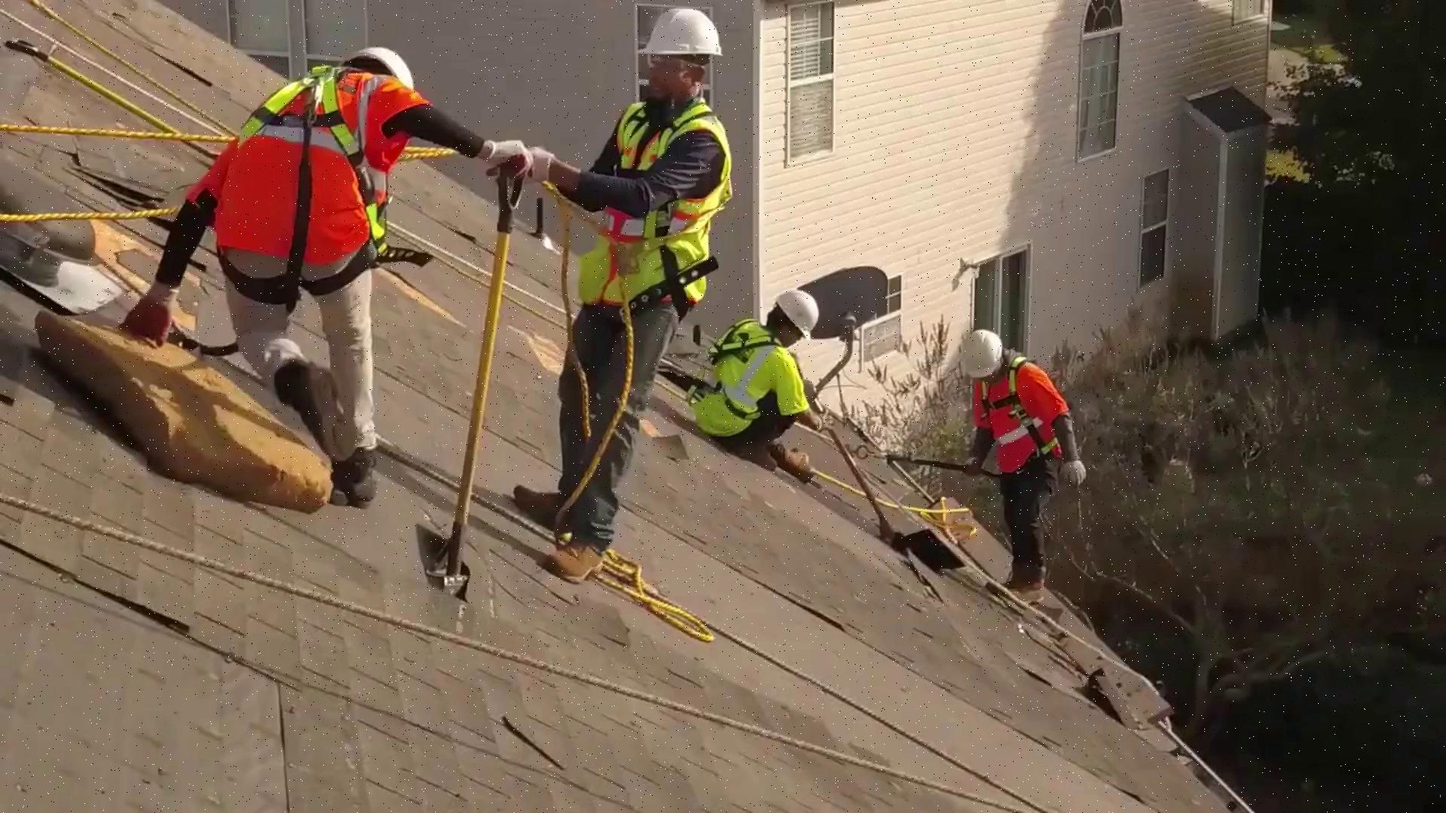Hard_hat: (632, 3, 728, 67), (773, 279, 826, 343), (959, 327, 1003, 383)
Vest: (559, 91, 741, 312), (198, 85, 442, 242), (696, 322, 804, 441), (975, 367, 1067, 463)
